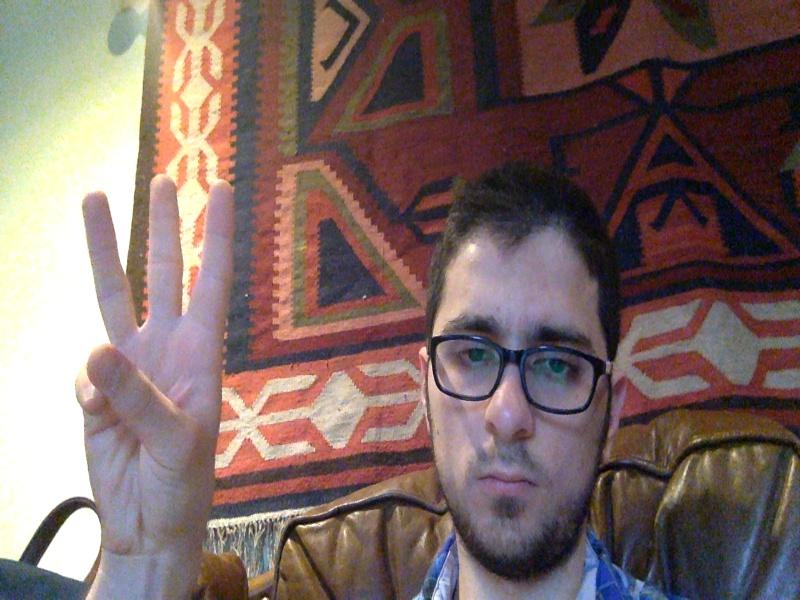3-hand: (74, 176, 232, 562)
